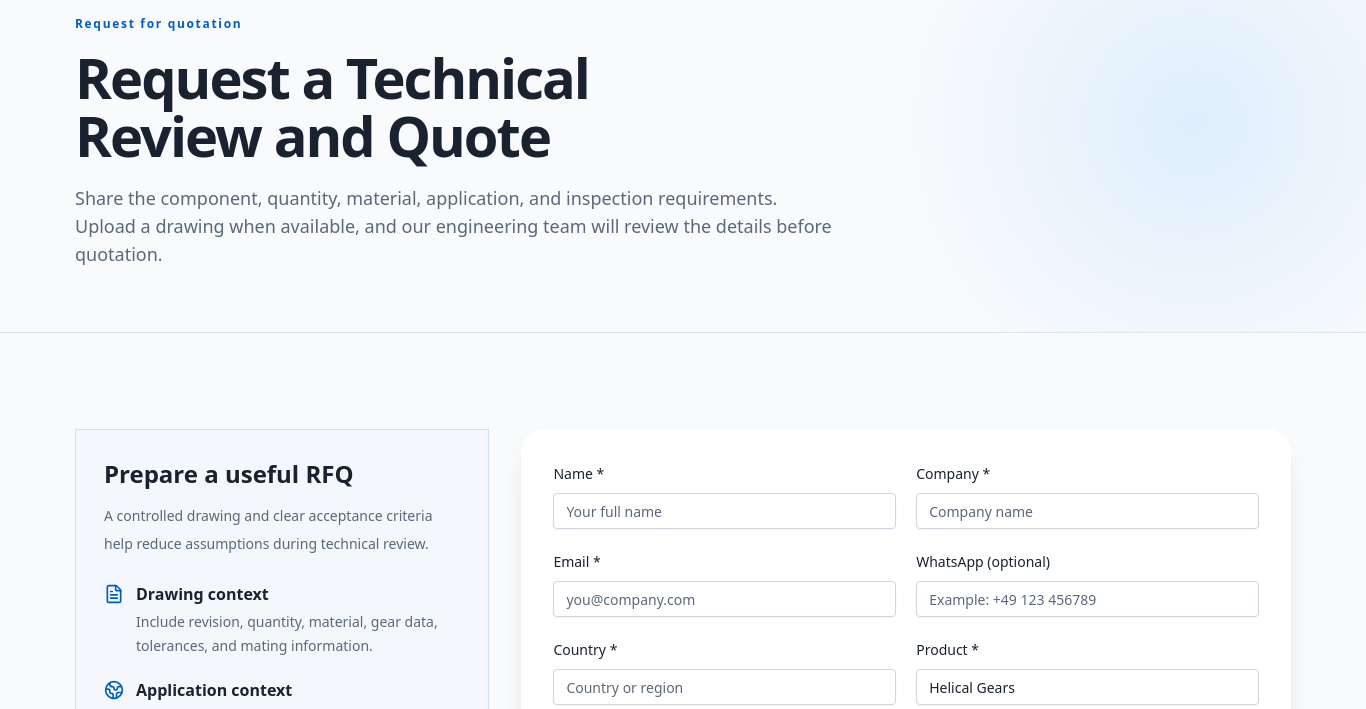
Test case: contact page inquiry flow › prefills a product from the URL and shows success after valid submission
The image size is (1366, 709).
Check: the field labelled "Product *" holds "Helical Gears", box [916,670,1259,706]
Type "Alex Morgan" into the field labelled "Name *" at (725,512), box [553,494,896,530]
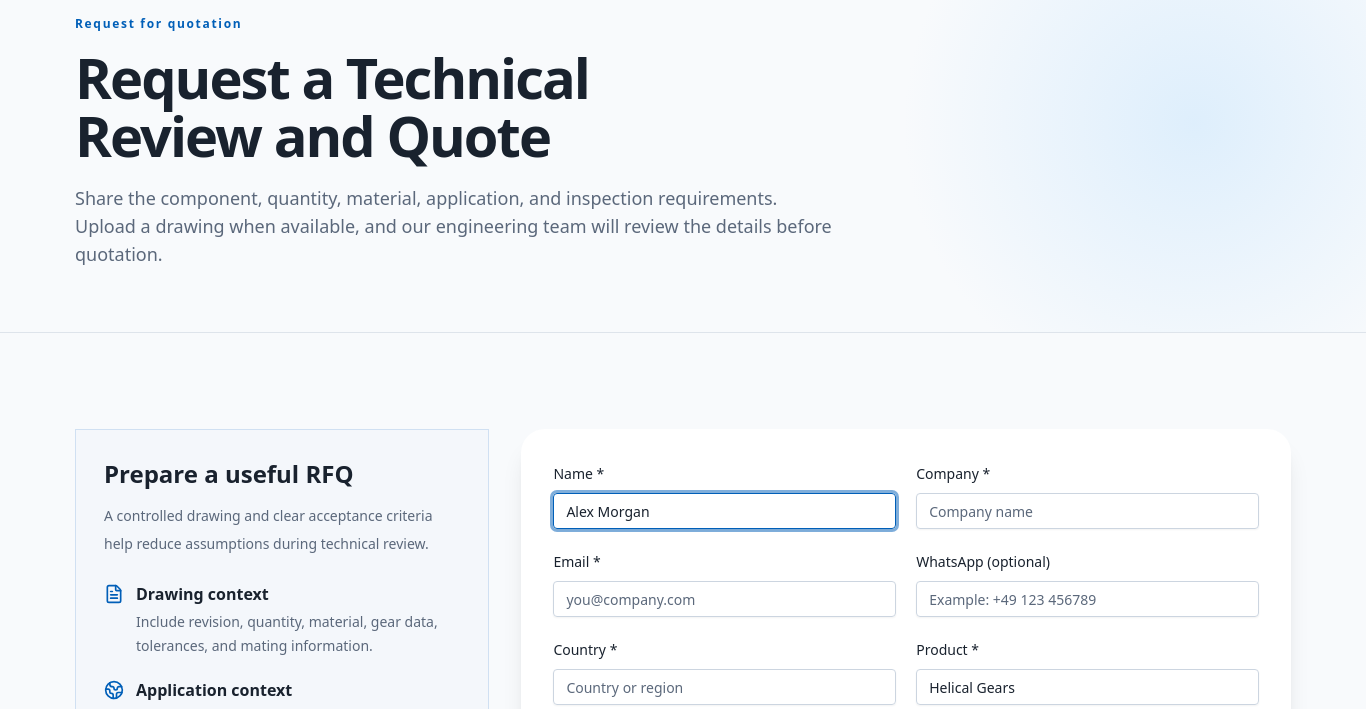
Type "Northstar Motion" into the field labelled "Company *" at (1088,512), box [916,494,1259,530]
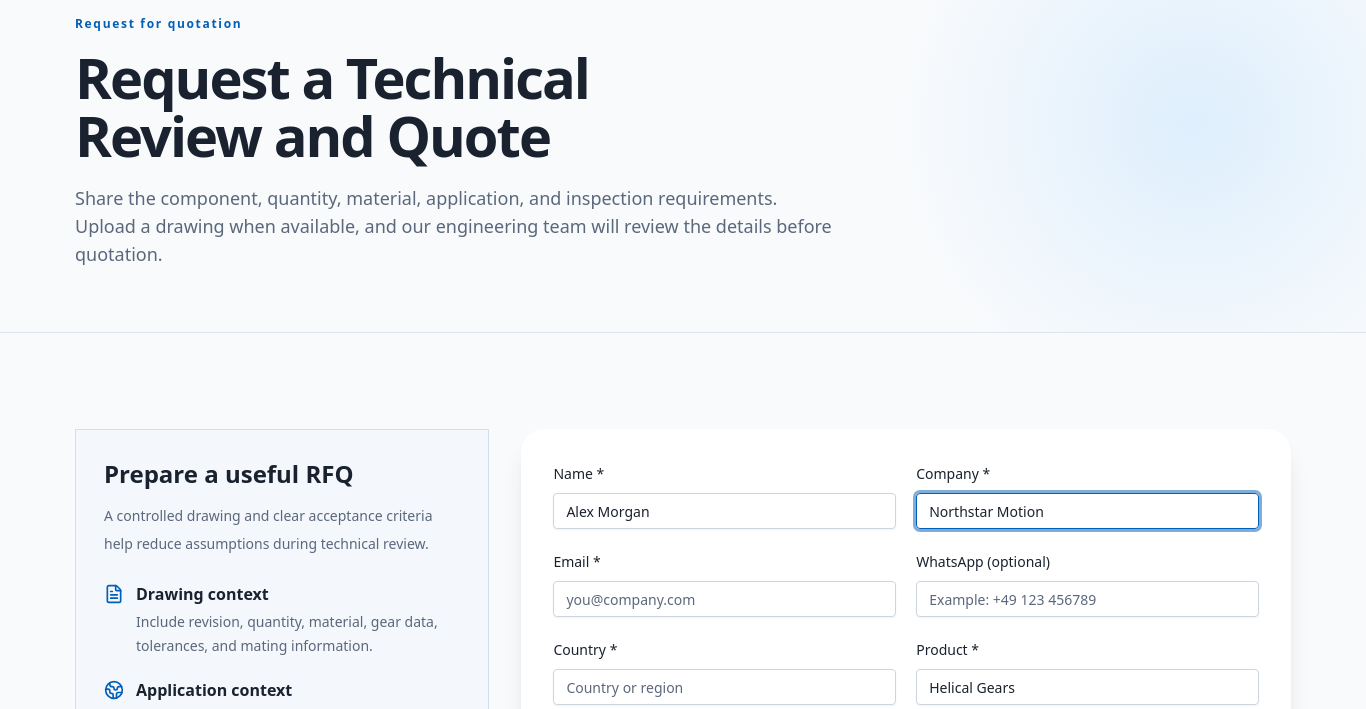
Type "alex@example.com" into the field labelled "Email *" at (725,600), box [553,582,896,618]
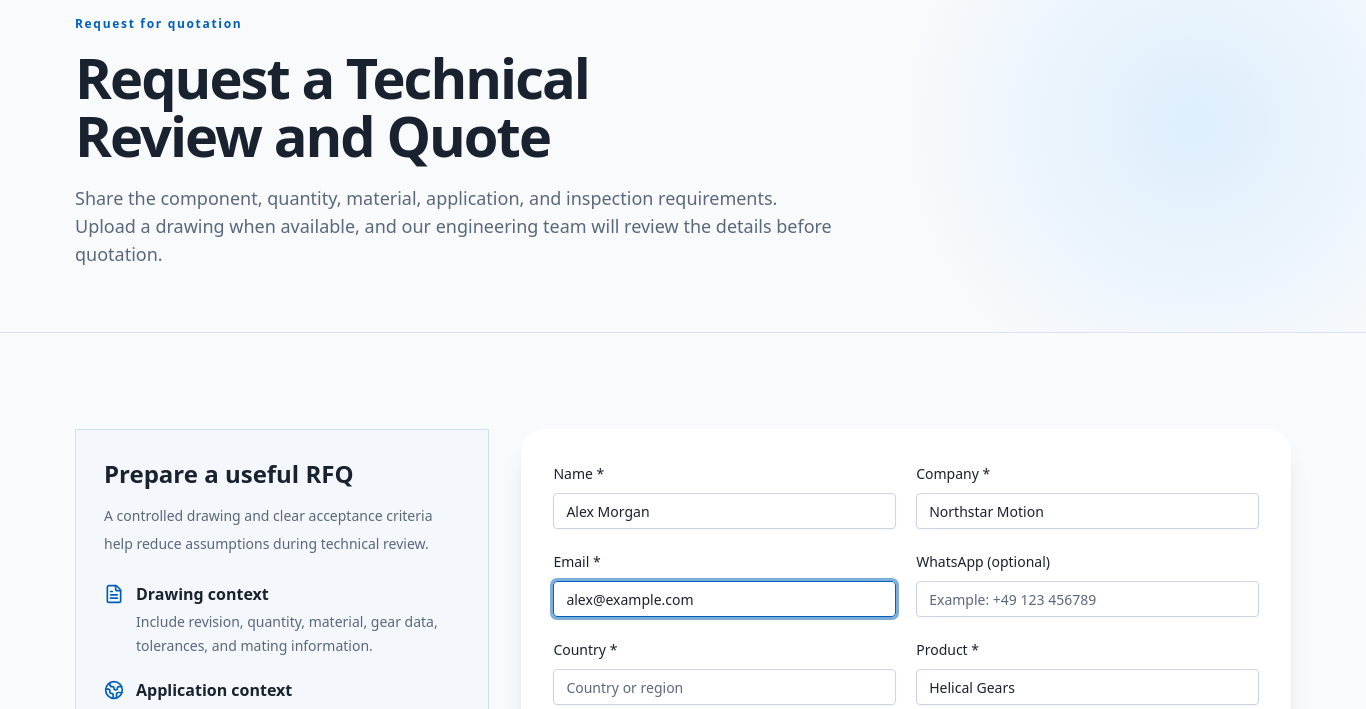
Type "Germany" into the field labelled "Country *" at (725,688), box [553,670,896,706]
(page scrolled)
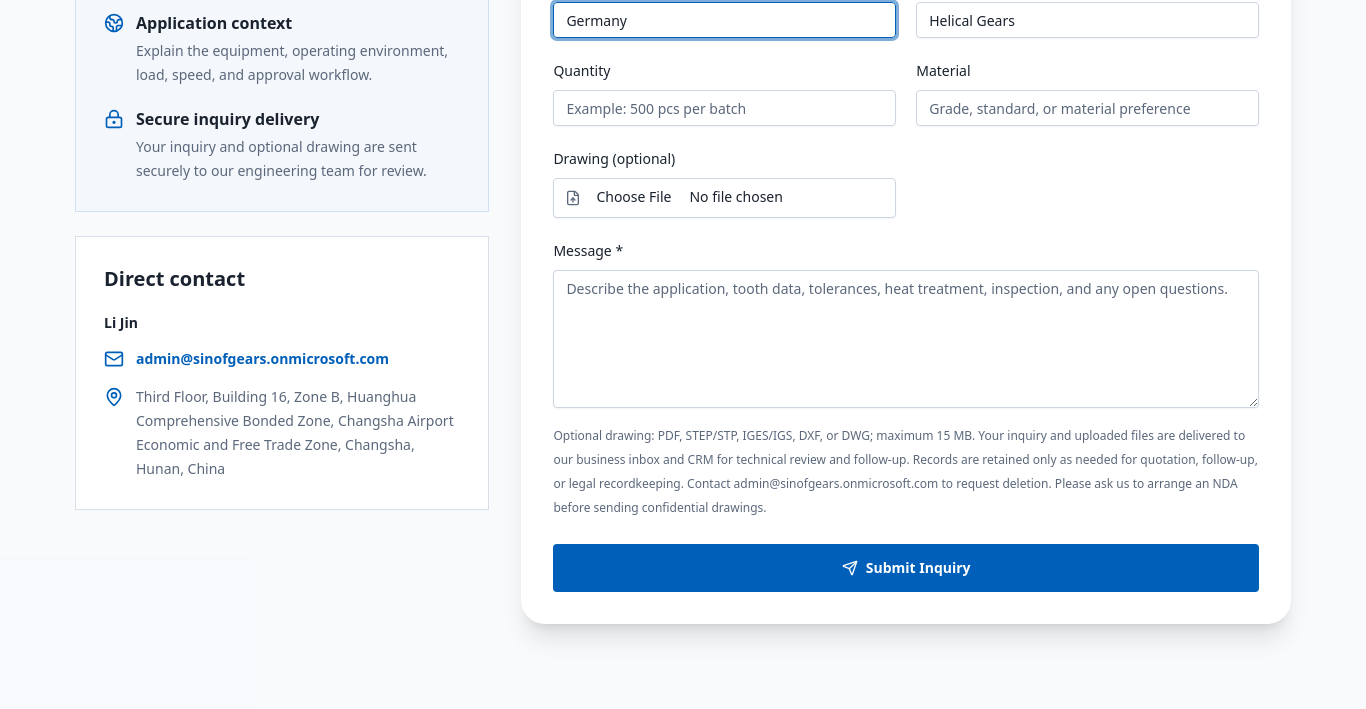
Type "Please review this gear for our packaging line." into the text box labelled "Message *" at (906,340), box [553,270,1259,408]
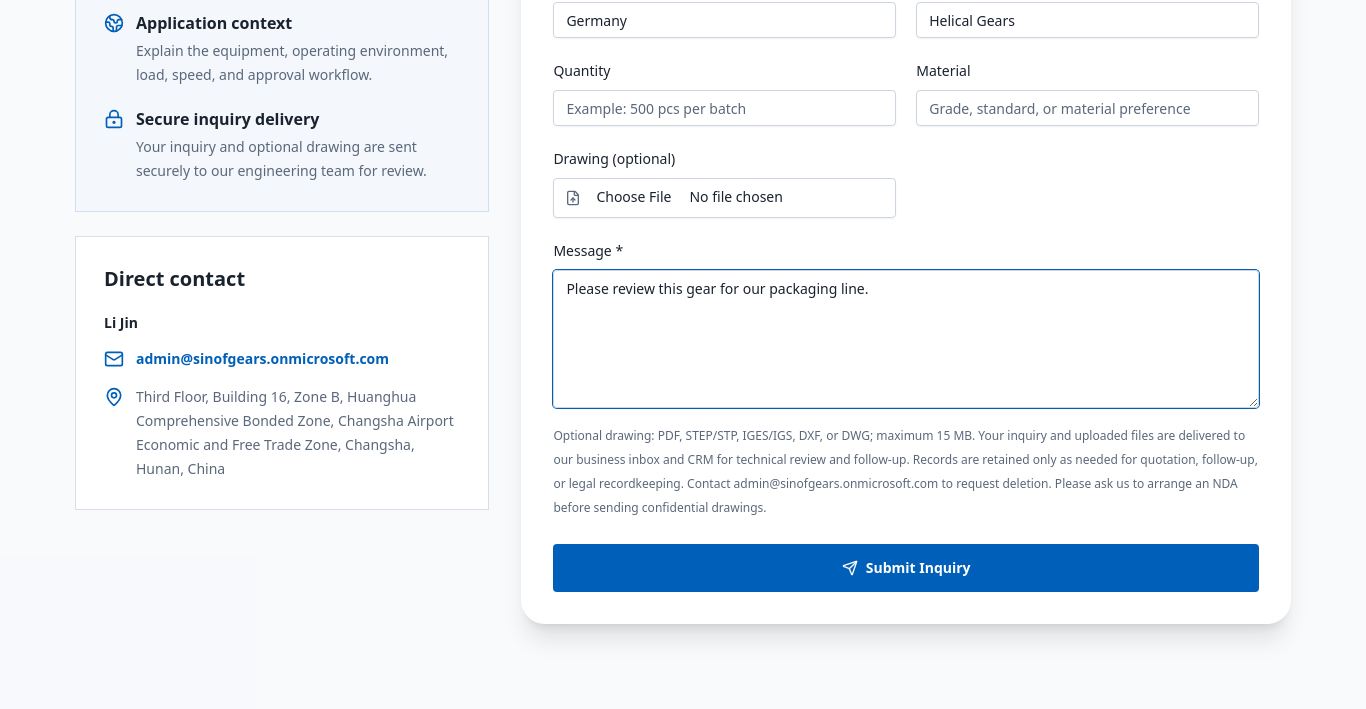
Click the button "Submit Inquiry" at (906,568), box [553,544,1259,592]
(page scrolled)
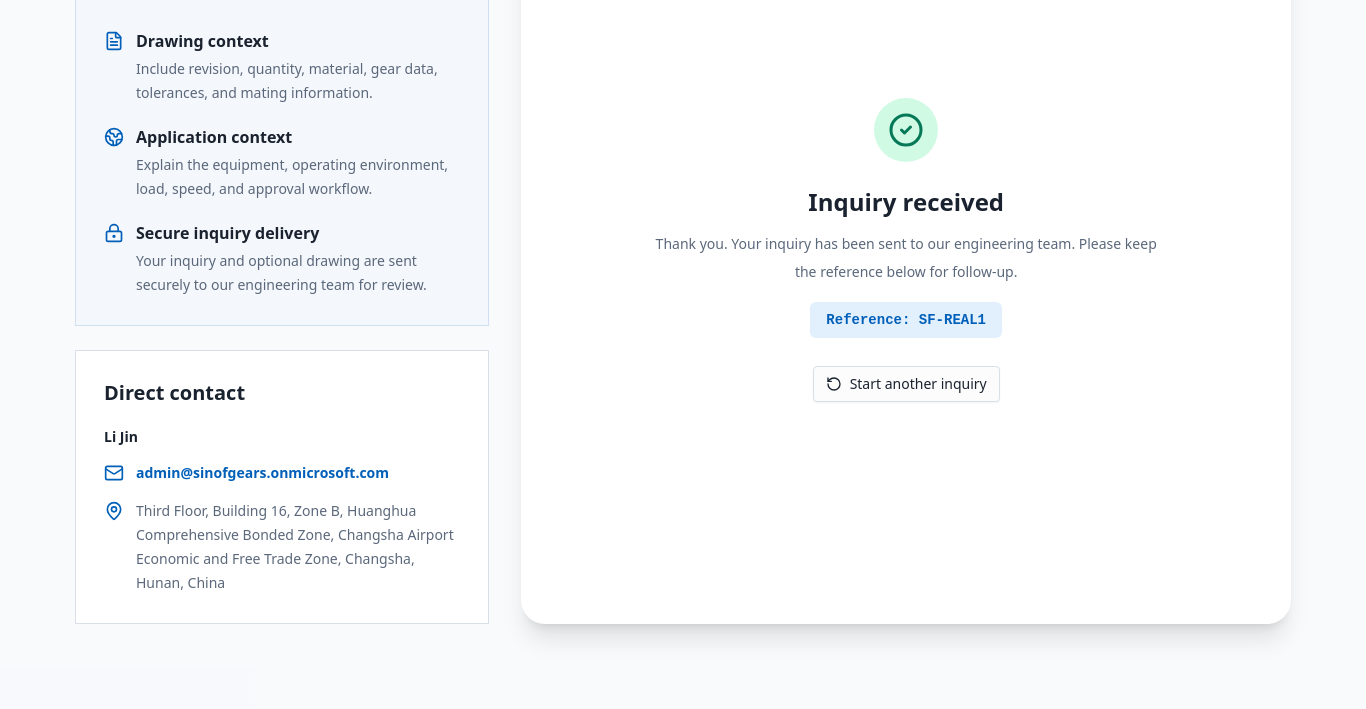
Check: the heading "Inquiry received" is shown, box [808,186,1004,218]
Check: the text "Reference: SF-REAL1" is shown, box [810,302,1002,338]
